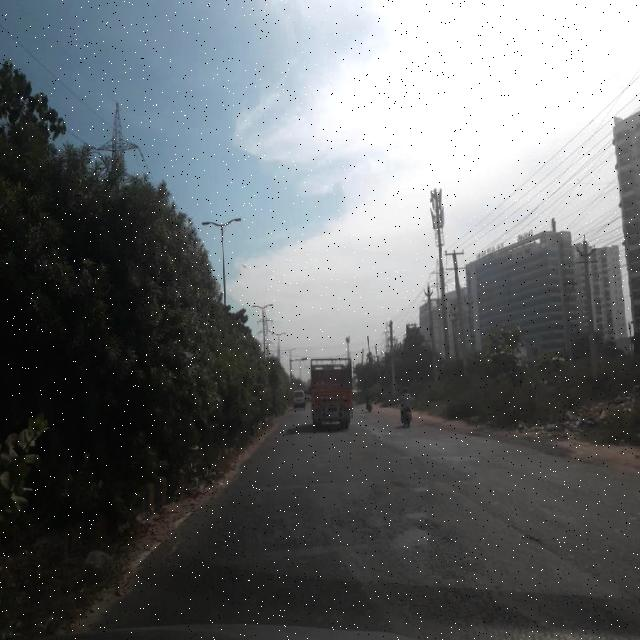D00: (452, 483, 594, 569)
D20: (171, 453, 614, 627)
